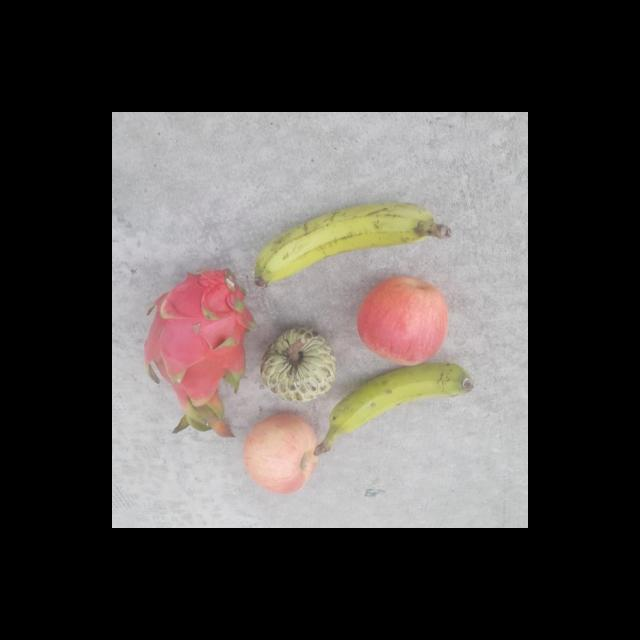Sakya fruit: (259, 328, 337, 403)
apple: (356, 274, 450, 367), (241, 411, 320, 495)
banana: (255, 202, 455, 290), (312, 361, 474, 456)
pitaya: (140, 269, 256, 412)
